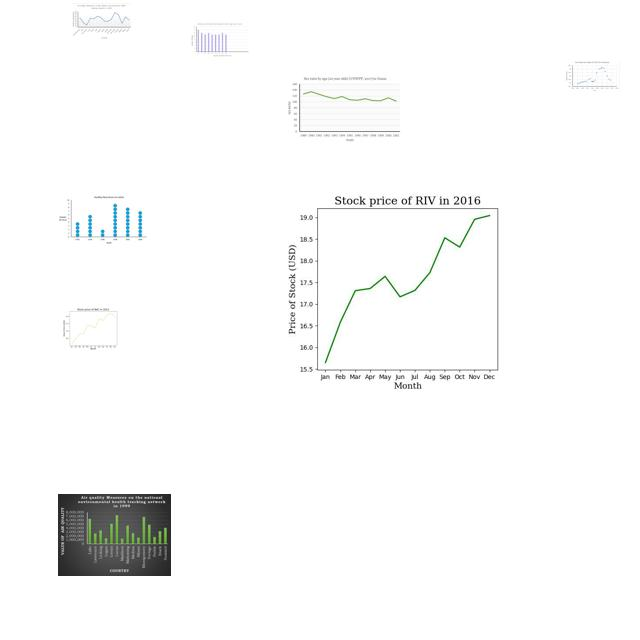Graph: (264, 183, 544, 393), (58, 494, 171, 576), (285, 75, 402, 144), (56, 193, 149, 247), (62, 305, 123, 351), (71, 3, 132, 40), (190, 22, 250, 58), (564, 60, 620, 93)
